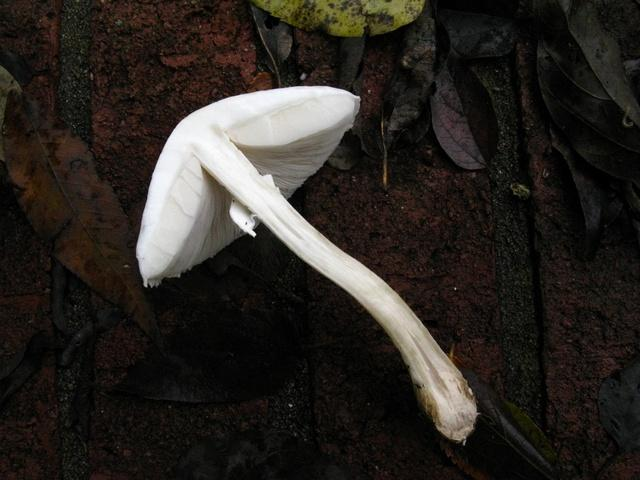poisonous_mushroom: (134, 83, 481, 445)
